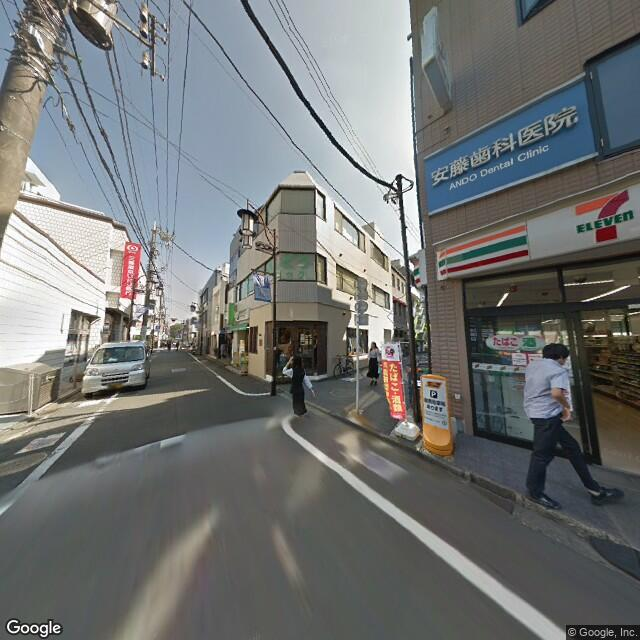7-eleven: (433, 181, 639, 285)
